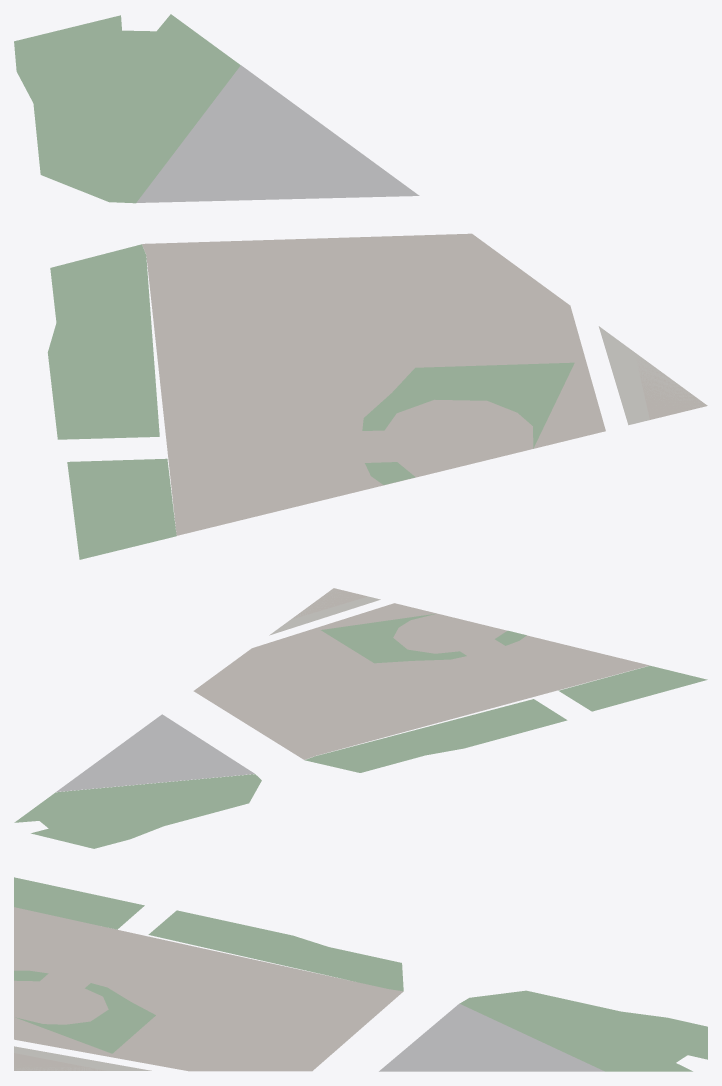
Rendered from 101_94_mid.glb.
The picture shows the model from 3 angles, top to bottom: view 1: azimuth 30°, elevation 25°; view 2: azimuth 150°, elevation 25°; view 3: azimuth 270°, elevation 25°; orthographic projection. The views are drawn at different scales.
Size of the model in its own units: 331 by 0.6316 by 500.
